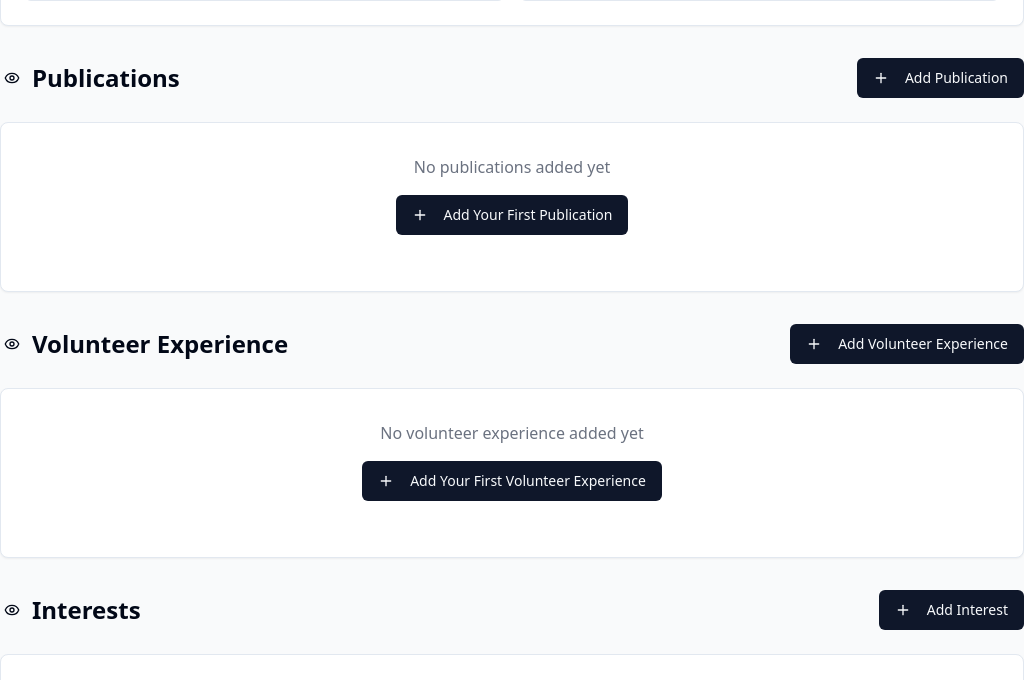
Test: Editor Visibility Toggles and Capitalization › Sub-item Visibility Toggles - Highlights and Courses › Volunteer Highlight Visibility › should have visibility toggles for volunteer highlights
The image size is (1024, 680).
(page scrolled)
Note: Add volunteer experience
Click the button with test id "add-volunteer-button": x=907, y=344 [790, 324, 1023, 364]
(page scrolled)
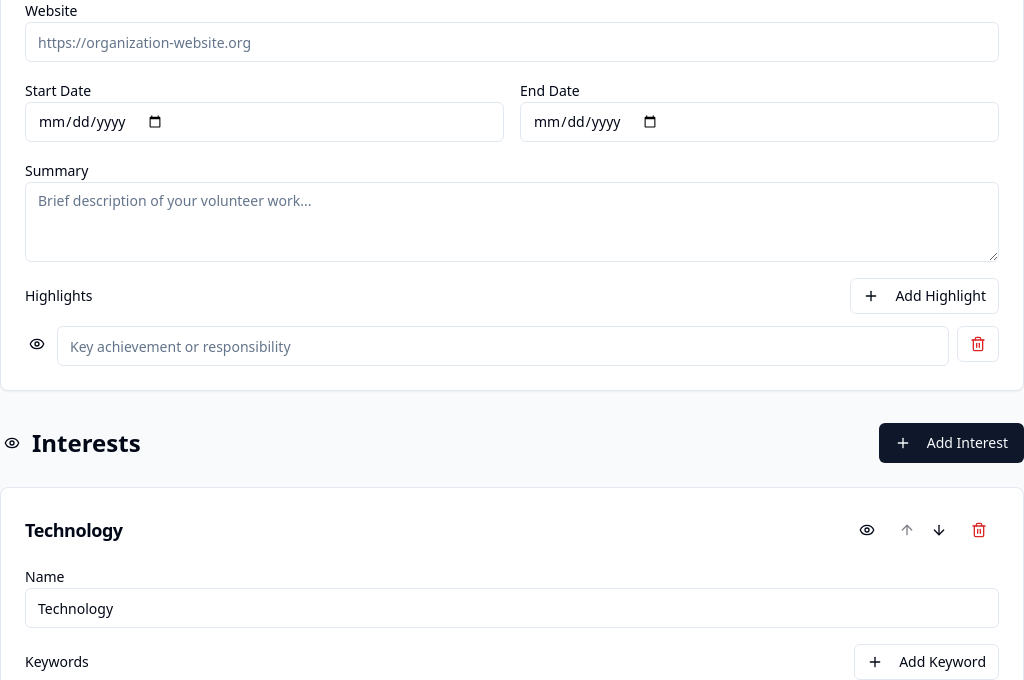
Expected: the button with test id "volunteer-0-highlight-0-visibility-toggle" is shown, [25, 326, 49, 362]
